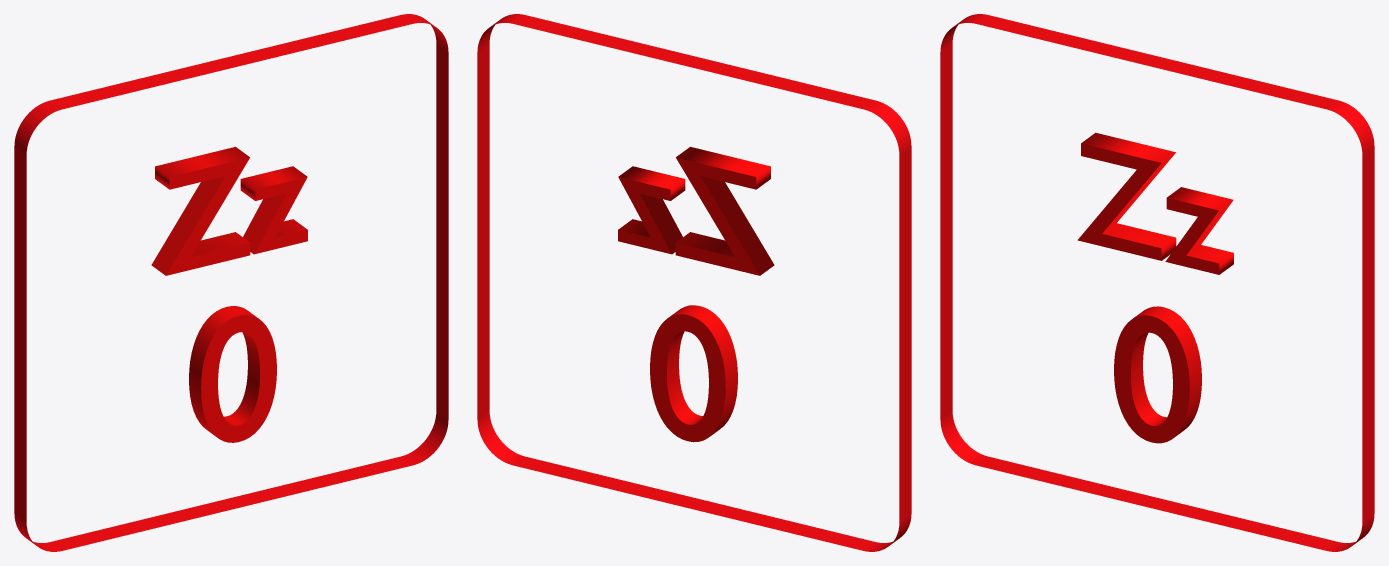
File: Letter_Z.glb
3 renders of one model, left to right at view 1: azimuth 30°, elevation 25°; view 2: azimuth 150°, elevation 25°; view 3: azimuth 330°, elevation 25°, orthographic.
Visible parts, largest first — view 1: Cube, Text, Text.001; view 2: Cube, Text, Text.001; view 3: Cube, Text, Text.001.
Boxes of the visible parts, bbox=[...] form: Cube: bbox=[14, 14, 448, 551]; Text: bbox=[151, 146, 307, 275]; Text.001: bbox=[189, 306, 276, 442]; Cube: bbox=[477, 14, 911, 551]; Text: bbox=[618, 146, 774, 275]; Text.001: bbox=[650, 305, 737, 442]; Cube: bbox=[940, 14, 1374, 551]; Text: bbox=[1077, 132, 1233, 274]; Text.001: bbox=[1114, 306, 1201, 443].
Bounding box in the file's own units: 2 × 2 × 0.12.
